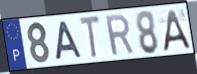8: (135, 9, 160, 56), (26, 21, 51, 65)
A: (162, 8, 192, 53), (54, 20, 83, 62)
R: (104, 12, 136, 58)
T: (78, 14, 102, 61)
